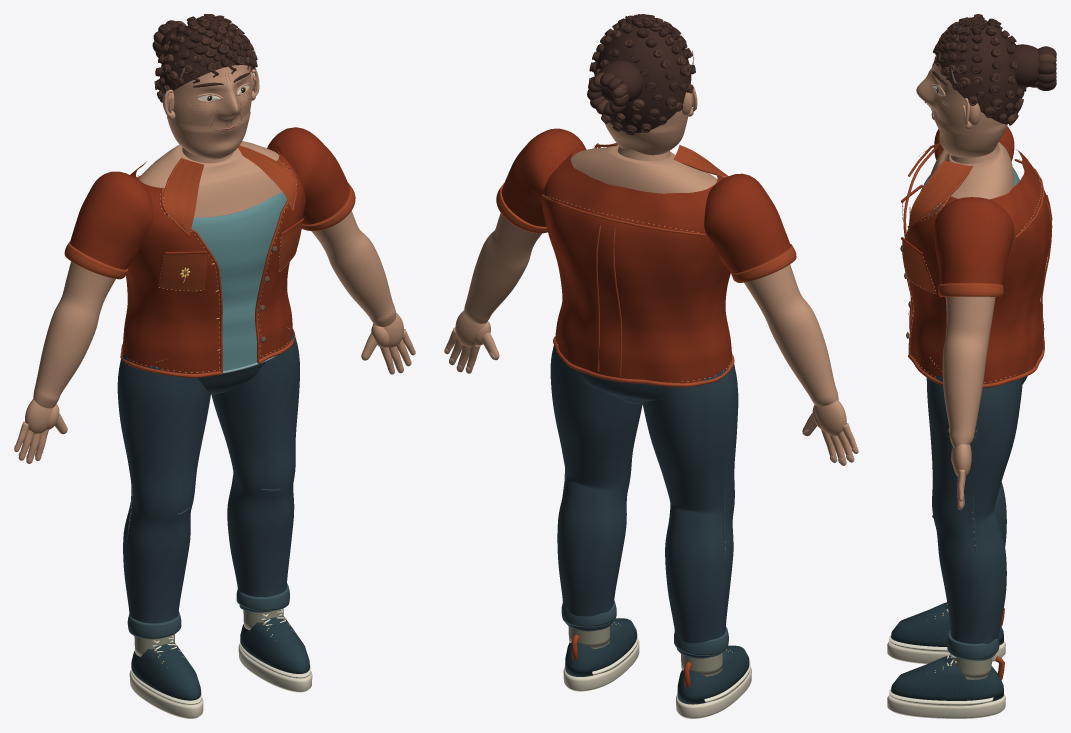
The picture shows the model from 3 angles, left to right: view 1: azimuth 30°, elevation 25°; view 2: azimuth 150°, elevation 25°; view 3: azimuth 270°, elevation 25°; orthographic projection. The views are drawn at different scales.
Visible parts, largest first — view 1: Deep indigo cotton twill, Heavy woven burnt-sienna overshirt, Warm sun-touched skin, Rolled canvas edges, Soft heather blue jersey, Weathered navy canvas, Dark chestnut curls, Warm rubber outsole, Twill cuff facing, Curl warm edges, Natural cotton laces, Soft natural socks; view 2: Heavy woven burnt-sienna overshirt, Deep indigo cotton twill, Warm sun-touched skin, Dark chestnut curls, Rolled canvas edges, Weathered navy canvas, Warm rubber outsole, Curl warm edges, Twill cuff facing, Soft natural socks; view 3: Heavy woven burnt-sienna overshirt, Deep indigo cotton twill, Warm sun-touched skin, Dark chestnut curls, Rolled canvas edges, Weathered navy canvas, Warm rubber outsole, Curl warm edges, Twill cuff facing, Natural cotton laces, Soft natural socks.
Boxes of the visible parts, bbox=[...] form: Deep indigo cotton twill: bbox=[117, 330, 299, 634]; Heavy woven burnt-sienna overshirt: bbox=[70, 127, 349, 373]; Warm sun-touched skin: bbox=[14, 65, 415, 463]; Rolled canvas edges: bbox=[64, 145, 355, 377]; Soft heather blue jersey: bbox=[191, 192, 287, 371]; Weathered navy canvas: bbox=[131, 616, 309, 700]; Dark chestnut curls: bbox=[152, 14, 257, 102]; Warm rubber outsole: bbox=[129, 643, 312, 718]; Twill cuff facing: bbox=[122, 403, 289, 639]; Curl warm edges: bbox=[153, 14, 256, 98]; Natural cotton laces: bbox=[131, 609, 310, 704]; Soft natural socks: bbox=[134, 608, 283, 656]; Heavy woven burnt-sienna overshirt: bbox=[501, 128, 790, 383]; Deep indigo cotton twill: bbox=[550, 345, 738, 658]; Warm sun-touched skin: bbox=[444, 92, 858, 465]; Dark chestnut curls: bbox=[587, 14, 695, 135]; Rolled canvas edges: bbox=[496, 143, 796, 687]; Weathered navy canvas: bbox=[565, 618, 749, 704]; Warm rubber outsole: bbox=[563, 639, 751, 718]; Curl warm edges: bbox=[589, 14, 693, 132]; Twill cuff facing: bbox=[561, 468, 728, 655]; Soft natural socks: bbox=[568, 626, 722, 676]; Heavy woven burnt-sienna overshirt: bbox=[901, 126, 1051, 384]; Deep indigo cotton twill: bbox=[926, 376, 1027, 660]; Warm sun-touched skin: bbox=[916, 63, 1014, 509]; Dark chestnut curls: bbox=[932, 14, 1056, 124]; Rolled canvas edges: bbox=[902, 143, 1052, 680]; Weathered navy canvas: bbox=[891, 602, 1003, 701]; Warm rubber outsole: bbox=[887, 640, 1005, 718]; Curl warm edges: bbox=[932, 15, 1056, 125]; Twill cuff facing: bbox=[932, 423, 999, 660]; Natural cotton laces: bbox=[889, 604, 993, 706]; Soft natural socks: bbox=[953, 657, 992, 679].
Size of the model in its own units: 1.1 by 1.72 by 0.397.
Materials: 28 (7 with a texture image).
